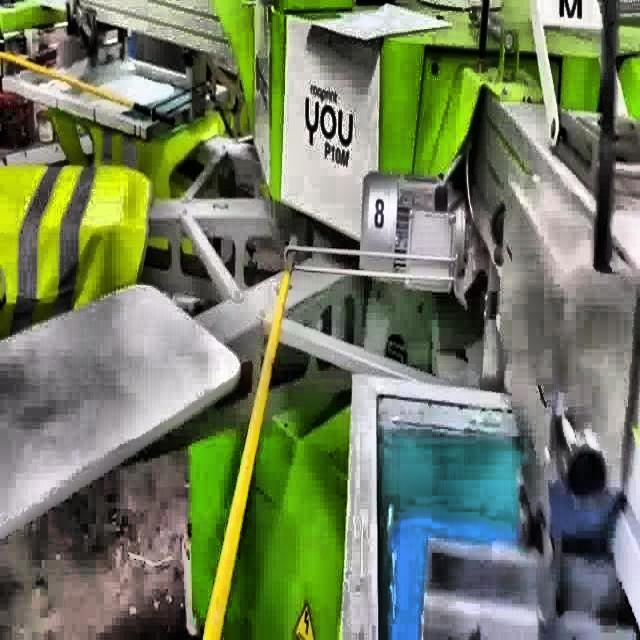safety_jacket: (1, 162, 154, 338)
